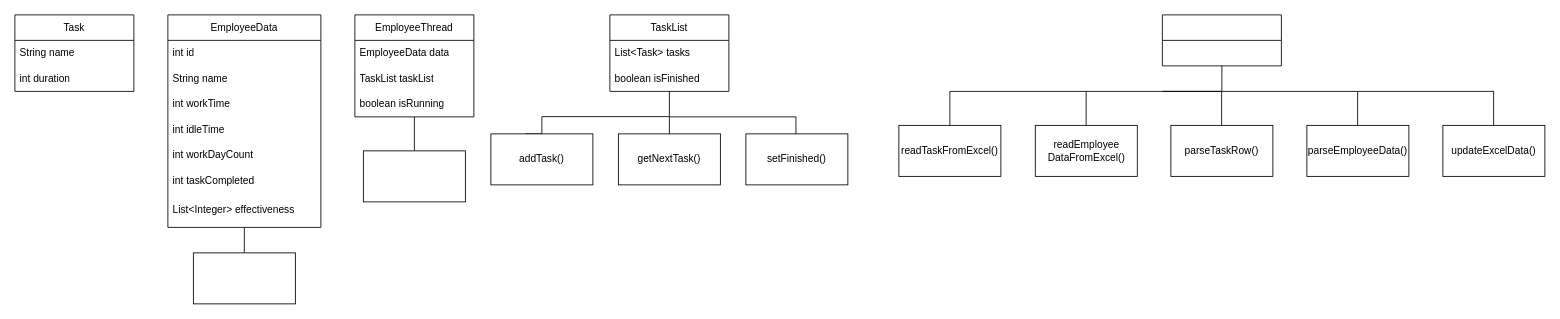
Some shapes in this 1560 by 319 pixel diagram are drawn without their labels. The centre of each missing label's shape, as x and y in pixels:
countGeneralEffectiveness(): the point at 244,278
run(): the point at 414,176
WorkWithExcel: the point at 1221,40
